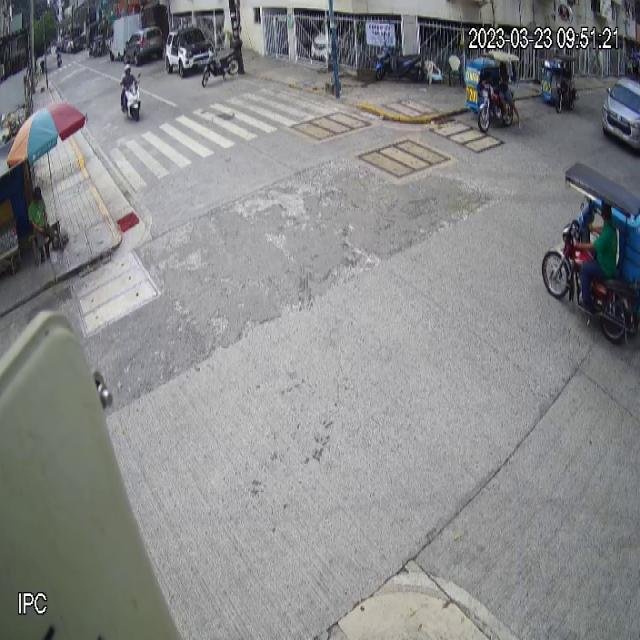Car: (601, 75, 640, 152)
Motorcycle: (202, 37, 244, 87), (375, 43, 425, 83), (125, 82, 142, 121)
Tricycle: (540, 156, 640, 349), (464, 52, 520, 133)
